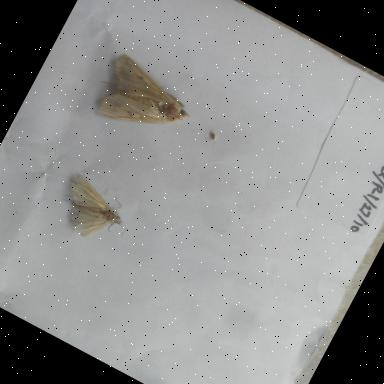abw: (82, 45, 207, 158), (35, 161, 153, 265)
